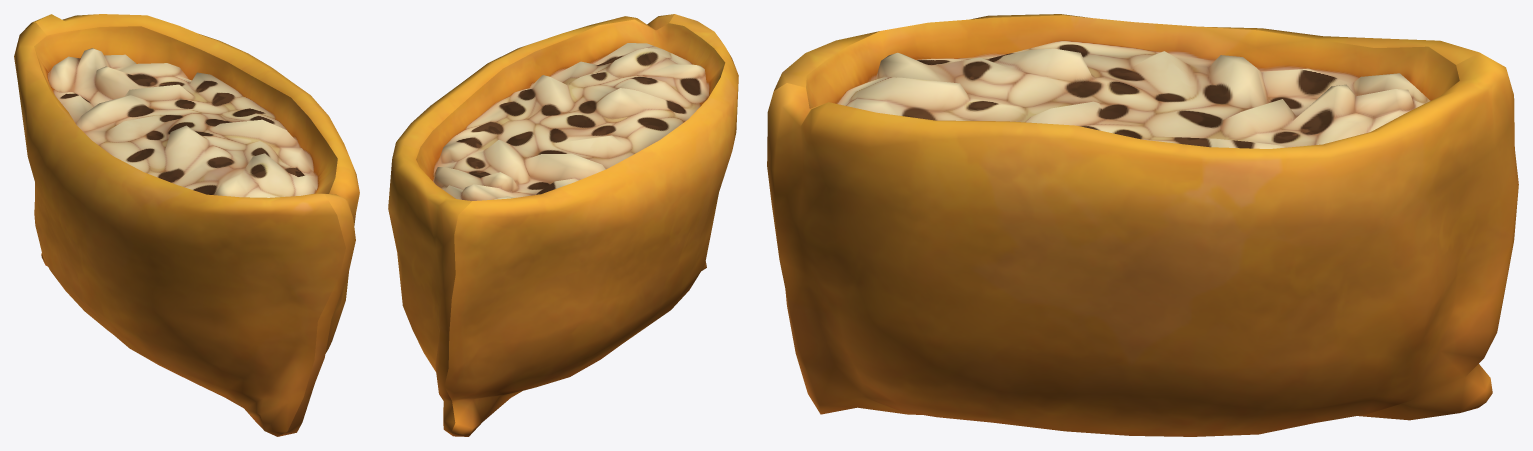
Rendered from Sushi1.fbx.
3 views of the same model, side by side, from view 1: azimuth 30°, elevation 25°; view 2: azimuth 150°, elevation 25°; view 3: azimuth 270°, elevation 25° (orthographic). The views are drawn at different scales.
Parts seen in each view (by area): view 1: Sushi; view 2: Sushi; view 3: Sushi.
Boxes of the visible parts, bbox=[...] form: Sushi: bbox=[14, 14, 359, 436]; Sushi: bbox=[388, 14, 738, 436]; Sushi: bbox=[767, 14, 1518, 436].
Size of the model in its own units: 7.75 by 7.72 by 14.84.
Materials: 1 (1 with a texture image).
